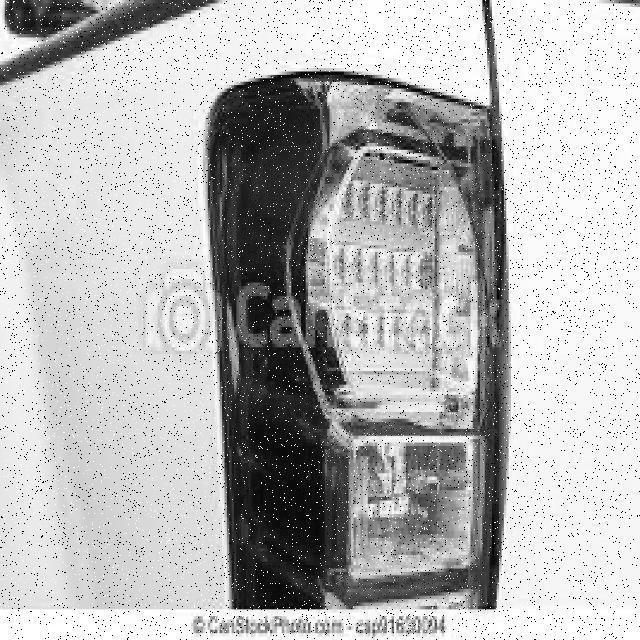Taillight-Damage: (197, 62, 500, 603)
